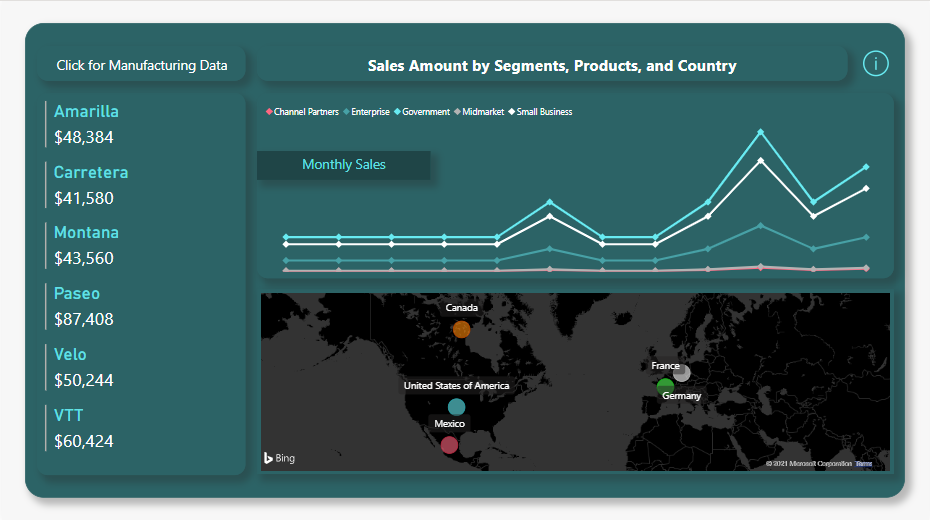

The dashboard page shown, as its layout file describes it:
{"tool":"powerbi","page":{"name":"Duplicate of Top 5 & Units Sold","canvas":[1280,720],"ordinal":3},"visuals":[{"type":"basicShape","box":[32,32,1216,656],"z":0},{"type":"lineChart","fields":{"Category":["financials.Date.Variation.Date Hierarchy.Month"],"Series":["financials.Segment"],"Y":["Sum(financials.Manufacturing Price)"]},"box":[352,128,880,256],"z":1000},{"type":"map","title":"Manufacturing Price by Country","fields":{"Category":["financials.Country"],"Size":["Sum(financials.Manufacturing Price)"]},"box":[352,400,880,256],"z":2000},{"type":"multiRowCard","title":"Multi-row card Manufacturing Data","fields":{"Values":["financials.Product","Sum(financials.Manufacturing Price)"]},"box":[48,128,288,528],"z":3000},{"type":"actionButton","title":"Info Button","box":[1168,64,64,48],"z":7000},{"type":"actionButton","title":"Sales Button","box":[48,64,288,48],"z":8000},{"type":"textbox","title":"Manufacturing Title","box":[352,64,816,48],"z":10000},{"type":"textbox","title":"Manufacturing Tab","box":[352,208,320,40],"z":13000}]}

Visuals, with their boxes in screenshot pixels (x1, y1, x2, y2), scaled from the page's 1280x720 canvas onto the 930x520 screenshot:
basicShape: rect(23, 23, 907, 497)
lineChart - financials.Date.Variation.Date Hierarchy.Month x financials.Segment: rect(256, 92, 895, 277)
"Manufacturing Price by Country" map: rect(256, 289, 895, 474)
"Multi-row card Manufacturing Data" multiRowCard: rect(35, 92, 244, 474)
"Info Button" actionButton: rect(849, 46, 895, 81)
"Sales Button" actionButton: rect(35, 46, 244, 81)
"Manufacturing Title" textbox: rect(256, 46, 849, 81)
"Manufacturing Tab" textbox: rect(256, 150, 488, 179)
